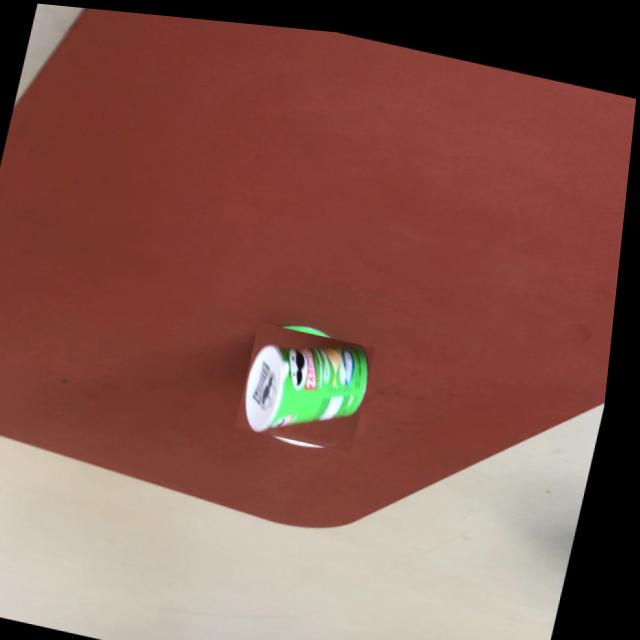a pringles: (244, 313, 381, 448)
